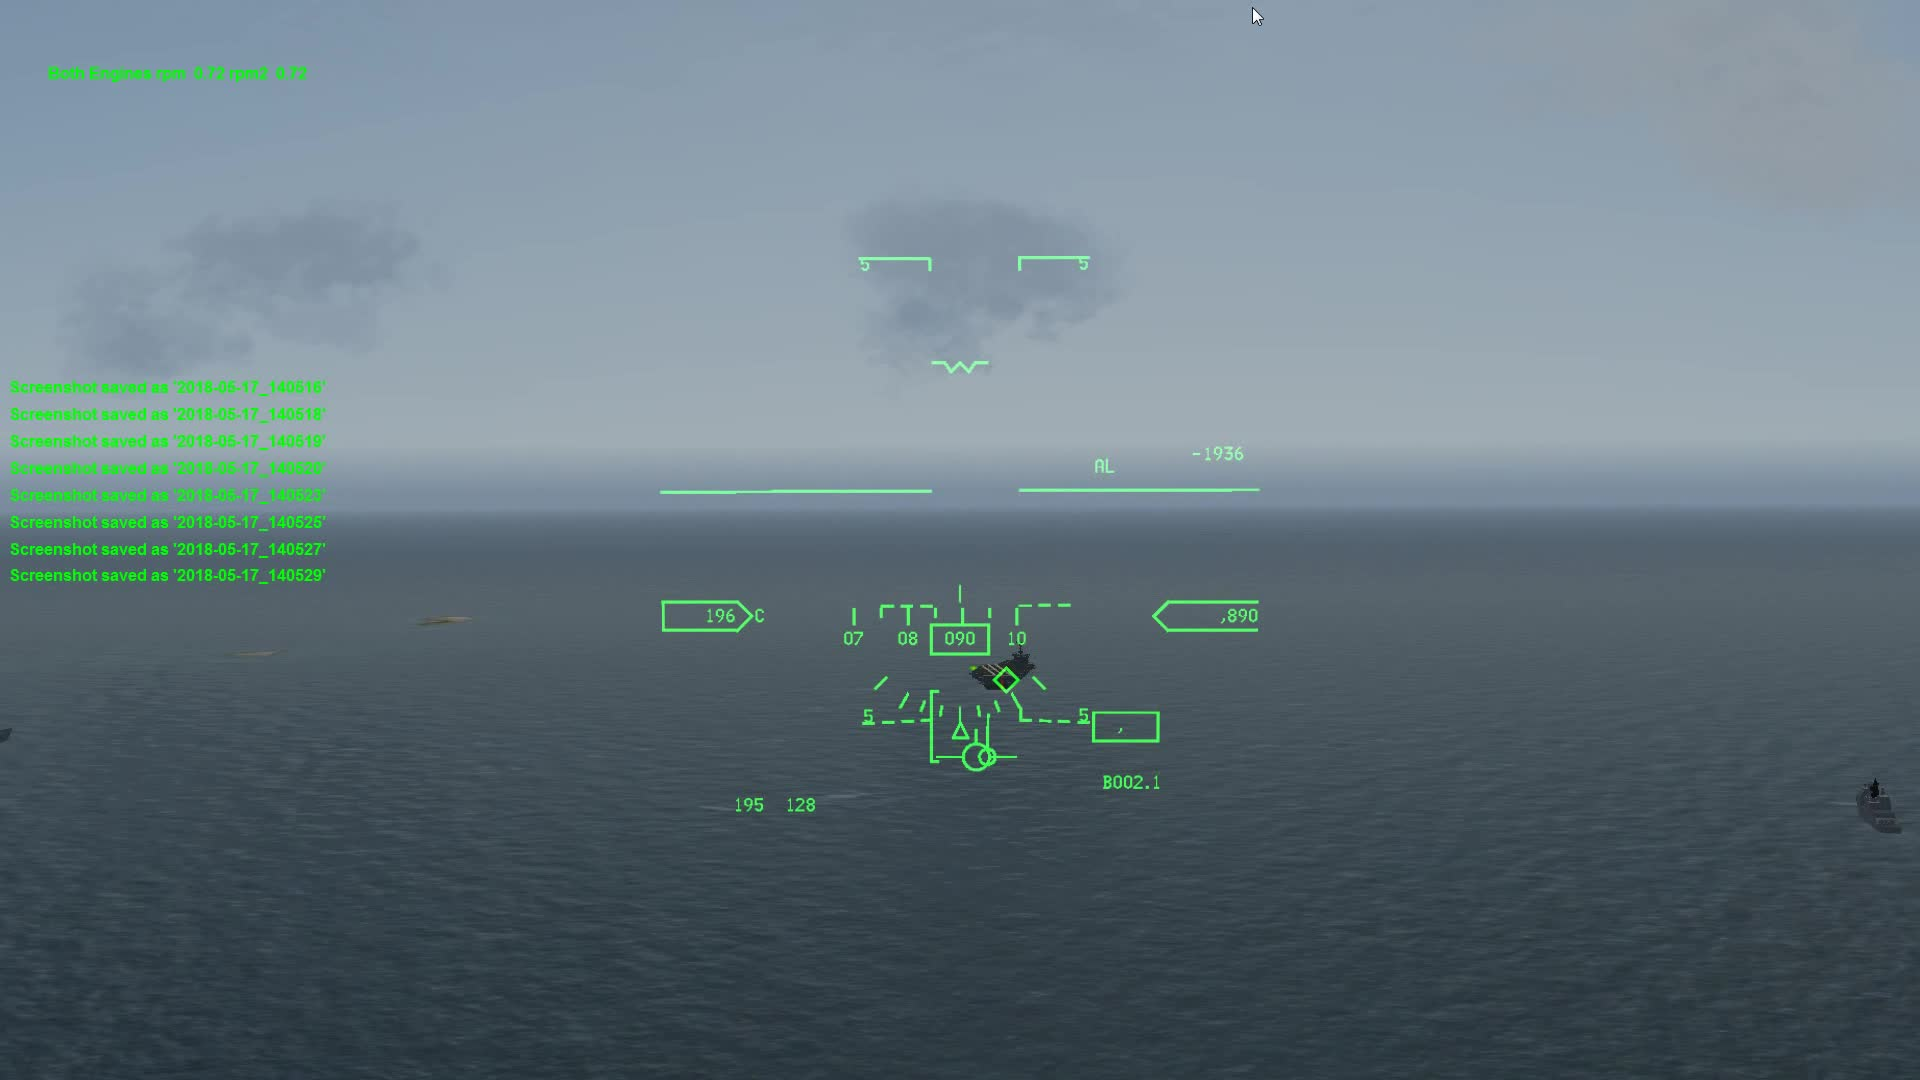speed vector: (938, 731, 1023, 775)
